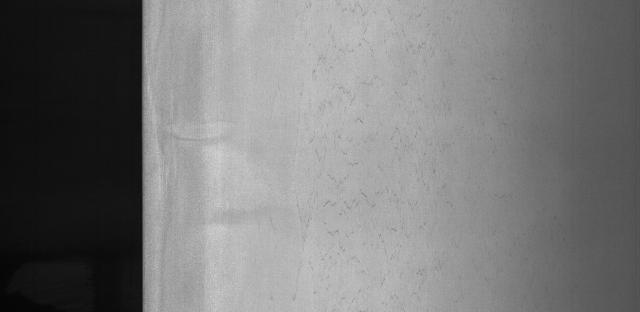silk_spot: (290, 14, 465, 296)
